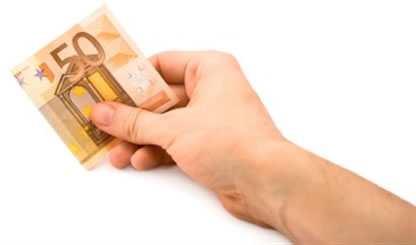billete: (7, 2, 180, 171)
